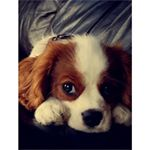puppy: (18, 34, 133, 135)
